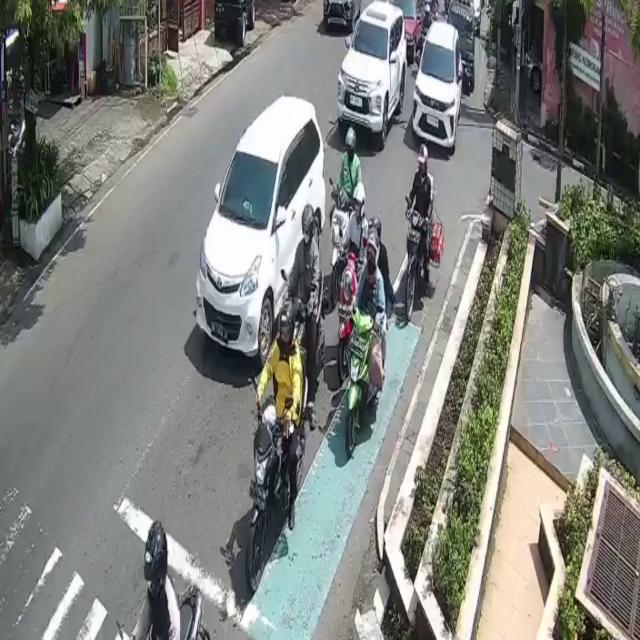bus: (247, 370, 309, 592), (346, 312, 378, 456), (336, 248, 361, 386), (406, 208, 424, 321)
motorcycle: (195, 95, 325, 364), (337, 2, 406, 147), (410, 21, 463, 153), (448, 0, 476, 97)
